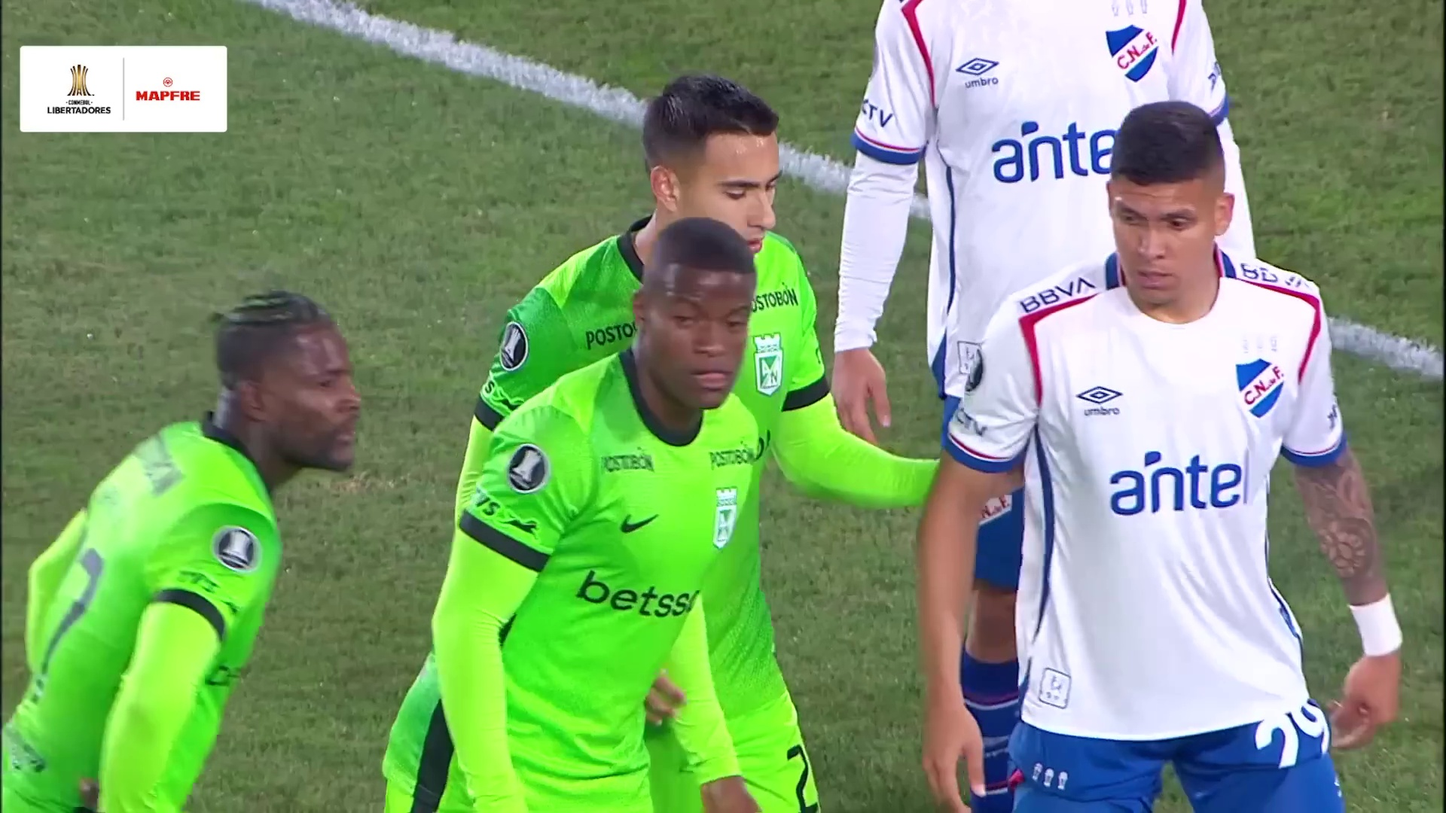player: (906, 101, 1446, 813), (462, 70, 953, 809), (392, 216, 772, 812), (0, 285, 367, 813)
